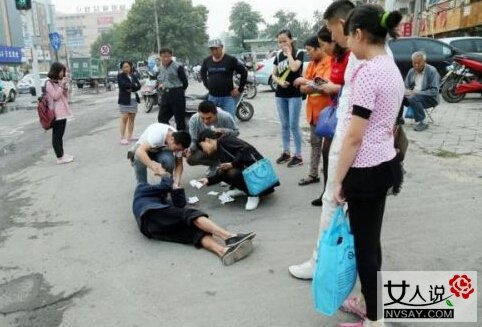falling: (126, 170, 258, 268)
